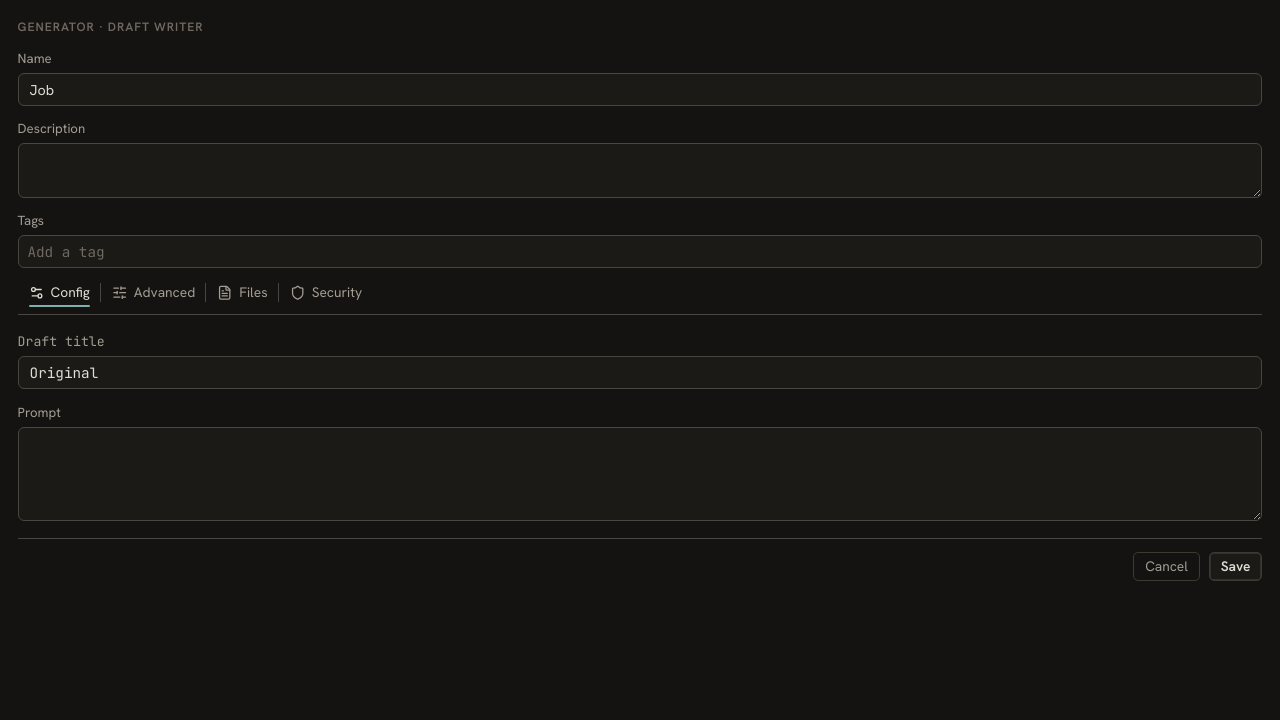
Test: app-owned definition forms › refuses an intervening runner-package edit instead of overwriting it__D13
Expected: the field labelled "Draft title" is shown, [18,356,1262,389]
Click the button "Save" at (1236, 567), box [1209,552,1262,581]
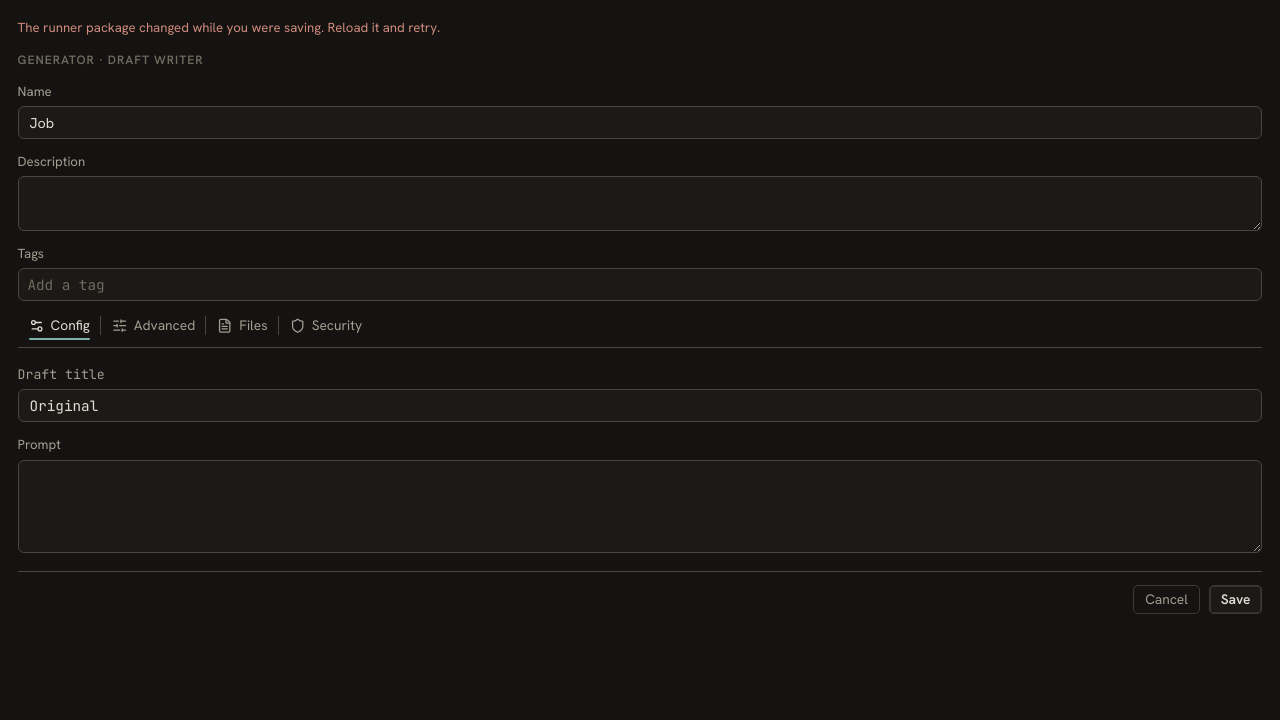
Expected: the message shows "runner package changed", [18,19,440,36]
